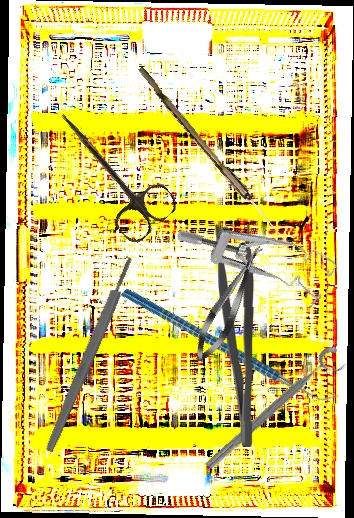Chopper: (120, 229, 341, 460)
Dressing Forceps: (214, 223, 257, 448)
Fixation Ring: (201, 343, 351, 481)
Iris Scissors: (36, 96, 182, 247)
Micro Scissor: (187, 240, 272, 367)
Scalpel Handle: (42, 255, 138, 454)
Speculum: (174, 183, 342, 322)
Surgical Spoon: (133, 66, 292, 245)
